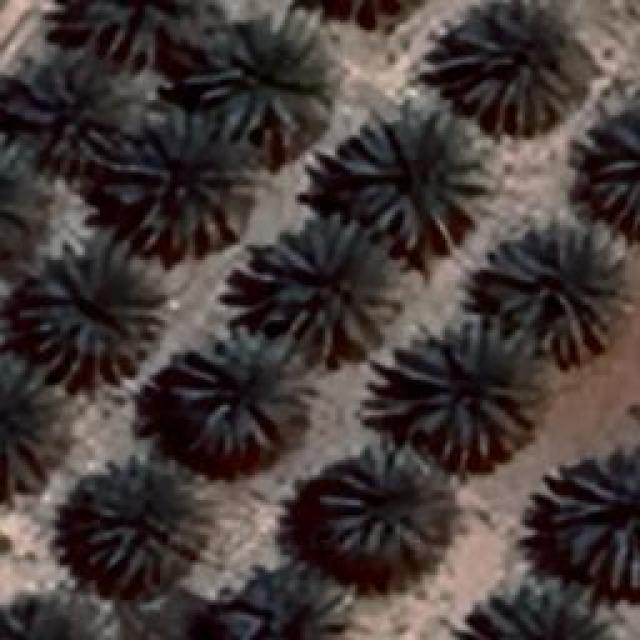PalmTree: (338, 95, 492, 255), (369, 332, 552, 464), (474, 220, 628, 362), (110, 112, 255, 260), (17, 238, 165, 382), (168, 324, 318, 458), (82, 460, 210, 585), (436, 18, 574, 128), (267, 228, 385, 350), (322, 440, 442, 558), (542, 448, 638, 590), (14, 52, 128, 170), (204, 30, 316, 140), (225, 560, 358, 638), (44, 0, 209, 59), (0, 368, 70, 500), (570, 103, 638, 230), (467, 582, 607, 640), (0, 140, 58, 272), (0, 588, 113, 640), (295, 0, 433, 35)
